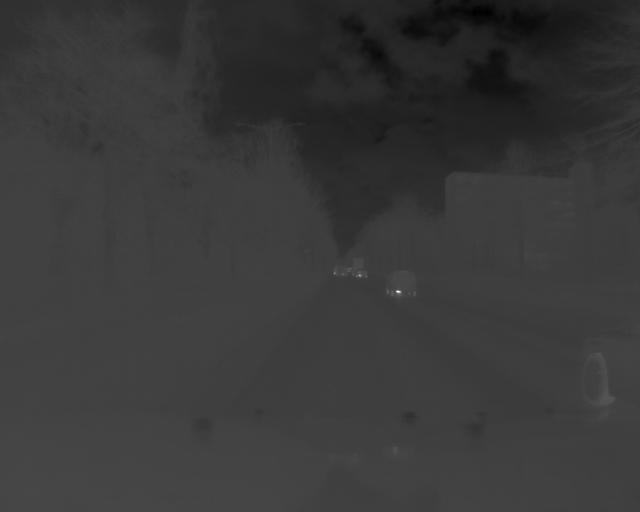car: (574, 308, 640, 419), (385, 271, 417, 296)
